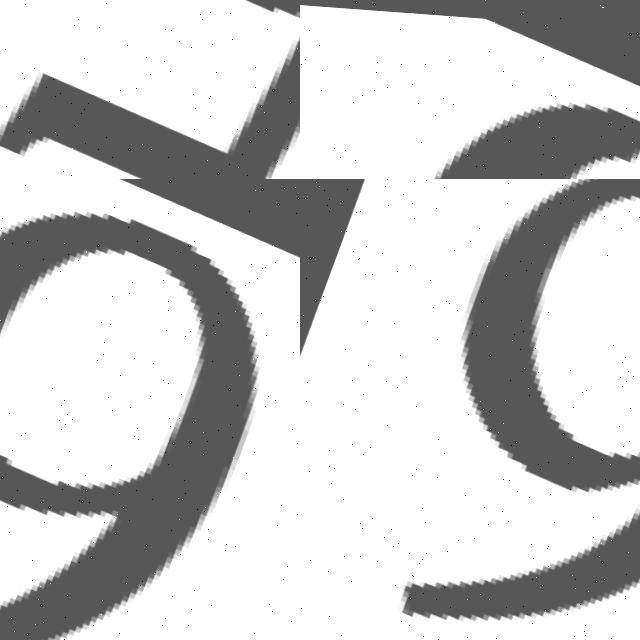5: (0, 0, 300, 179)
6: (0, 179, 300, 640), (342, 179, 640, 640)
J: (300, 0, 640, 179)
